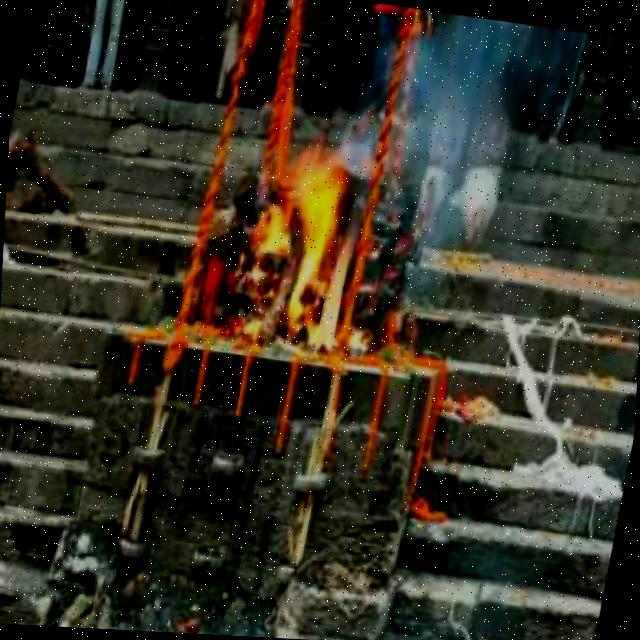fire: (231, 123, 377, 357)
